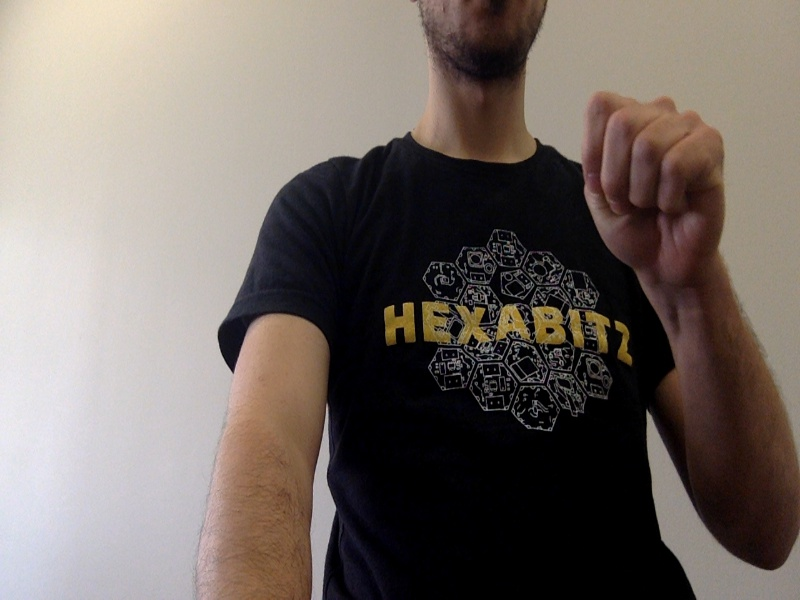0-hand: (580, 90, 724, 270)
